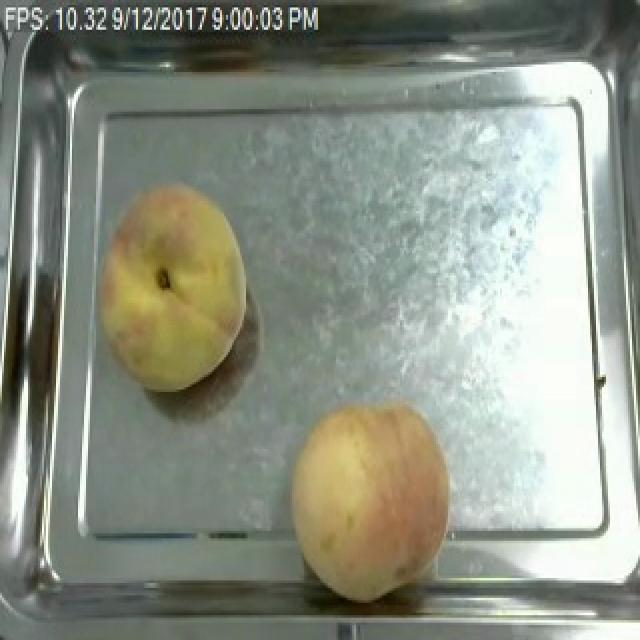Fruit: (278, 387, 462, 610), (84, 174, 256, 402)
